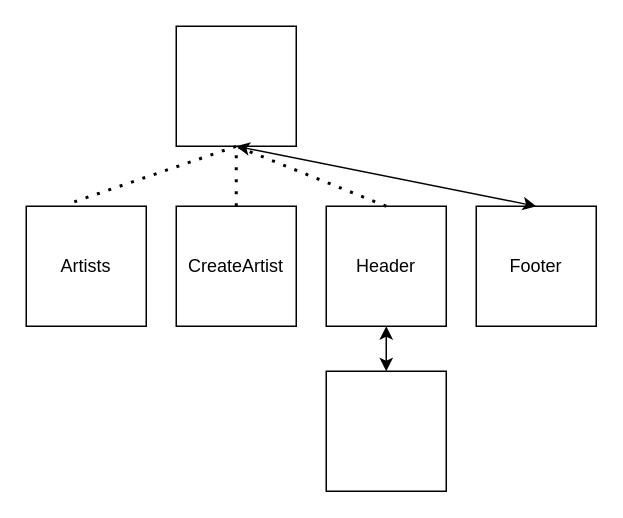
Some shapes in this 623 by 518 pixel diagram are drawn without their labels. The box of each missing label's shape, as (x1, y1, x2, y2) in pixels:
App: (175, 25, 296, 146)
Nav: (325, 370, 446, 491)
